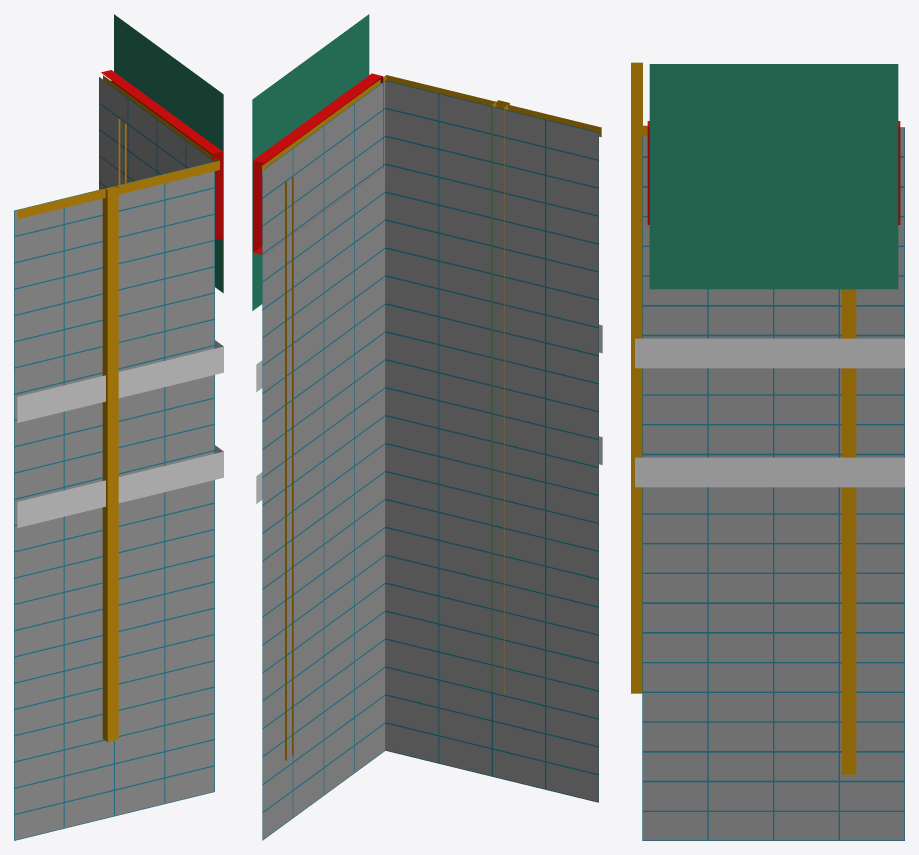
3 views of the same model, side by side, from view 1: azimuth 30°, elevation 25°; view 2: azimuth 150°, elevation 25°; view 3: azimuth 270°, elevation 25° (orthographic). The views are drawn at different scales.
Visible parts, largest first — view 1: mizuyaHQ; view 2: mizuyaHQ; view 3: mizuyaHQ.
Part boxes in pixels (x1=…): mizuyaHQ: x1=14, y1=14, x2=223, y2=840; mizuyaHQ: x1=252, y1=14, x2=602, y2=840; mizuyaHQ: x1=631, y1=62, x2=904, y2=840.
Bounding box in the file's own units: 25.44 × 79.06 × 25.03.
